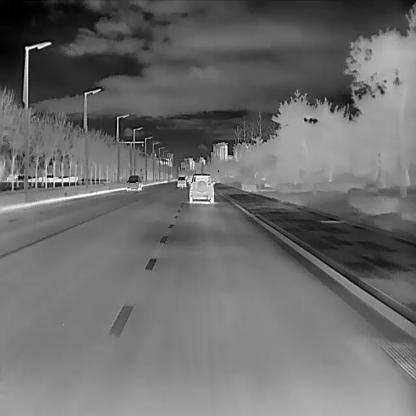car: (189, 173, 215, 202), (125, 174, 141, 190), (177, 175, 186, 187)
